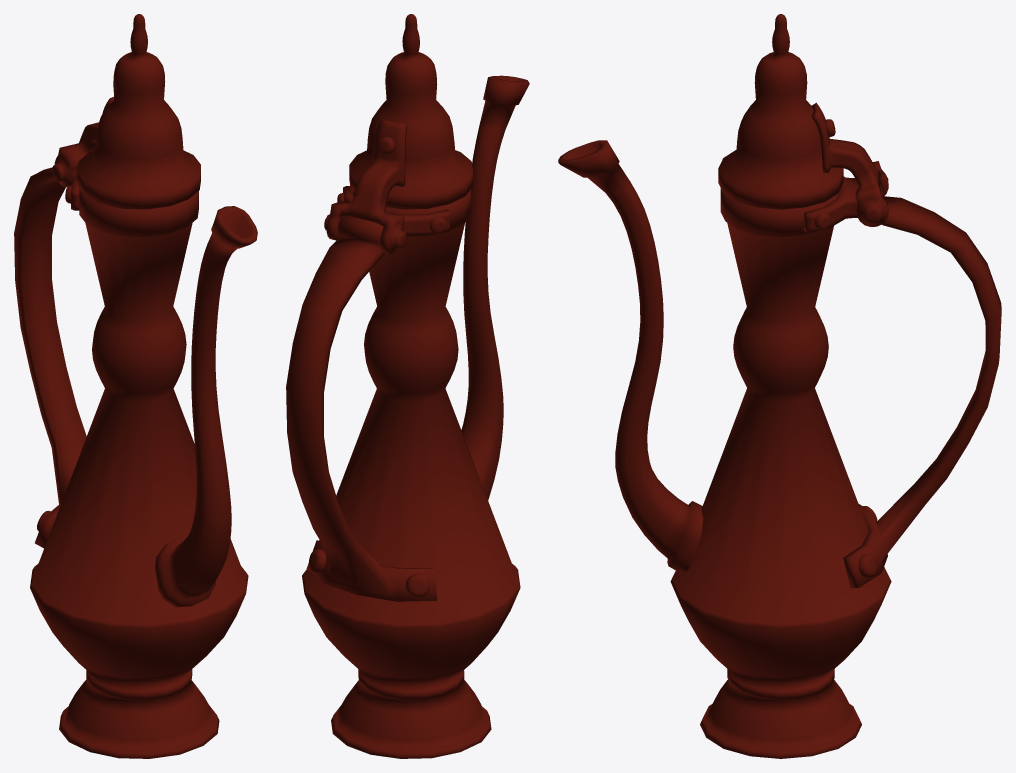
The model's file is teapot1_01.FBX.
3 renders of one model, left to right at view 1: azimuth 30°, elevation 25°; view 2: azimuth 150°, elevation 25°; view 3: azimuth 270°, elevation 25°, orthographic.
Parts seen in each view (by area): view 1: teapot1; view 2: teapot1; view 3: teapot1.
Boxes of the visible parts, x1,y1,x2,y2 form: teapot1: (14,14,257,758); teapot1: (286,14,529,758); teapot1: (558,14,1001,758).
Size of the model in its own units: 13.61 by 48.32 by 27.32.
